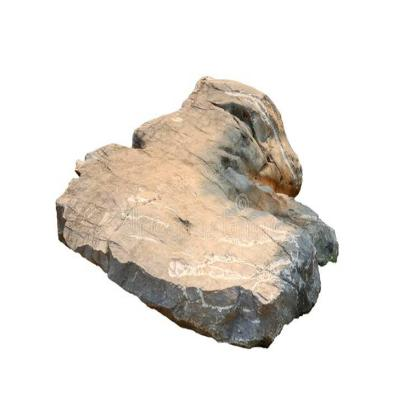Sedimentary_Limestone: (48, 49, 350, 352)
